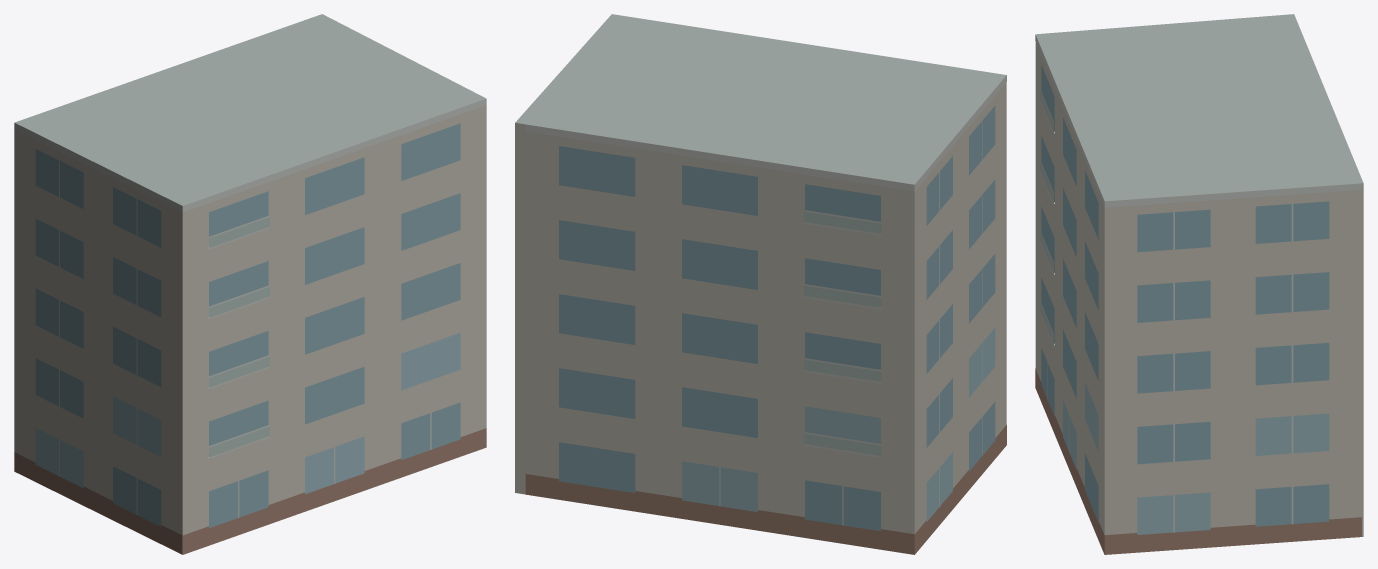
The model's file is survey-upis-32862296.glb.
The picture shows the model from 3 angles, left to right: view 1: azimuth 30°, elevation 25°; view 2: azimuth 150°, elevation 25°; view 3: azimuth 270°, elevation 25°; orthographic projection. The views are drawn at different scales.
Visible parts, largest first — view 1: survey-upis-32862296.tmp; view 2: survey-upis-32862296.tmp; view 3: survey-upis-32862296.tmp.
Part boxes in pixels (x1,y1,x2,y2): survey-upis-32862296.tmp: [14, 14, 486, 554]; survey-upis-32862296.tmp: [515, 14, 1006, 554]; survey-upis-32862296.tmp: [1035, 14, 1363, 554].
Size of the model in its own units: 15.07 by 13.25 by 11.15.
